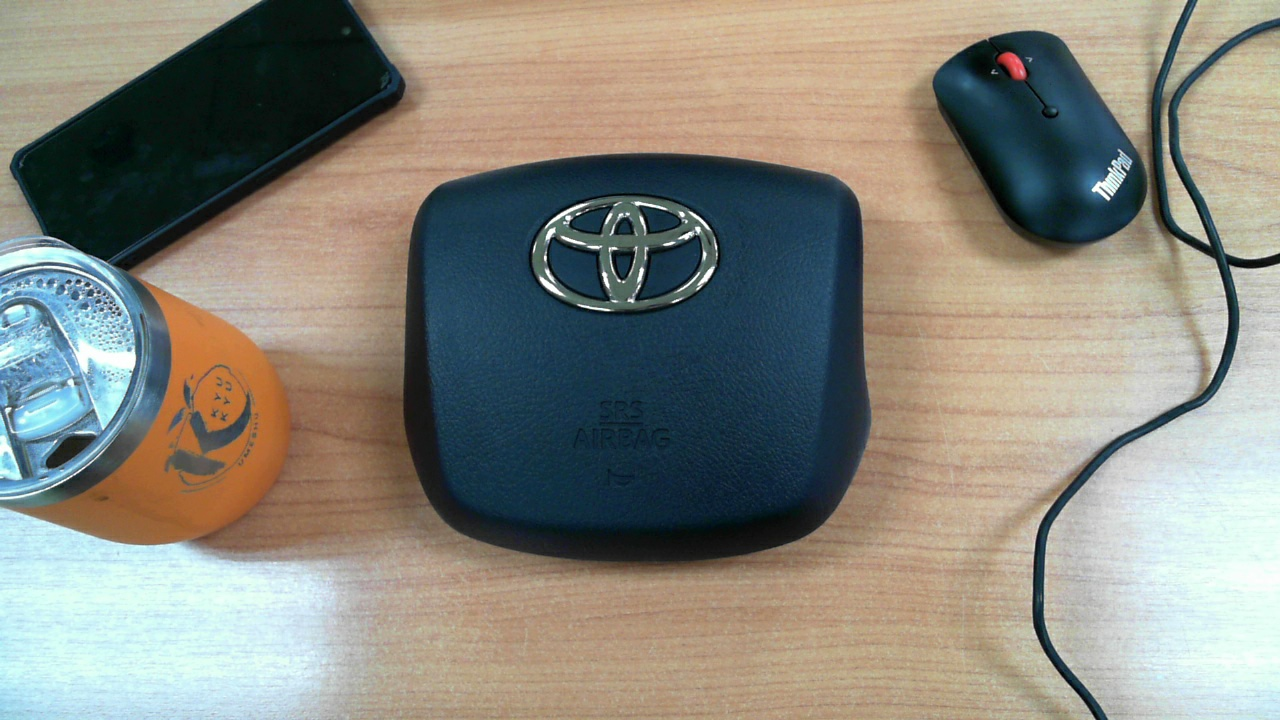Airbag: (368, 126, 897, 593)
